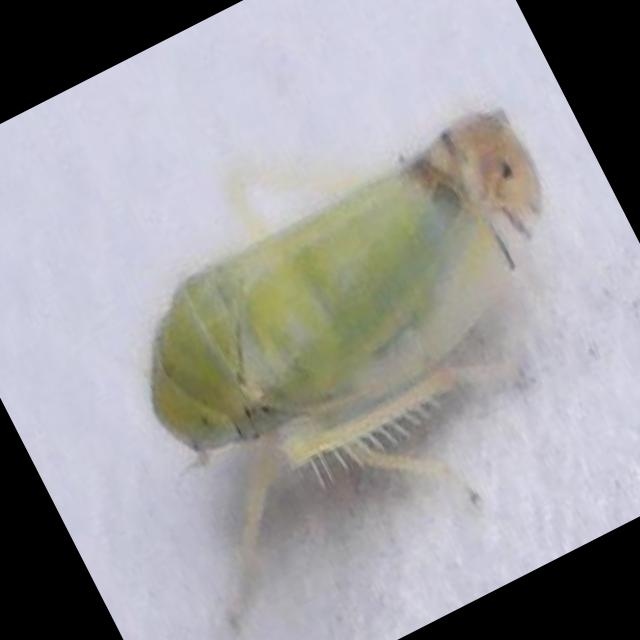green-leafhopper: (107, 83, 638, 564)
